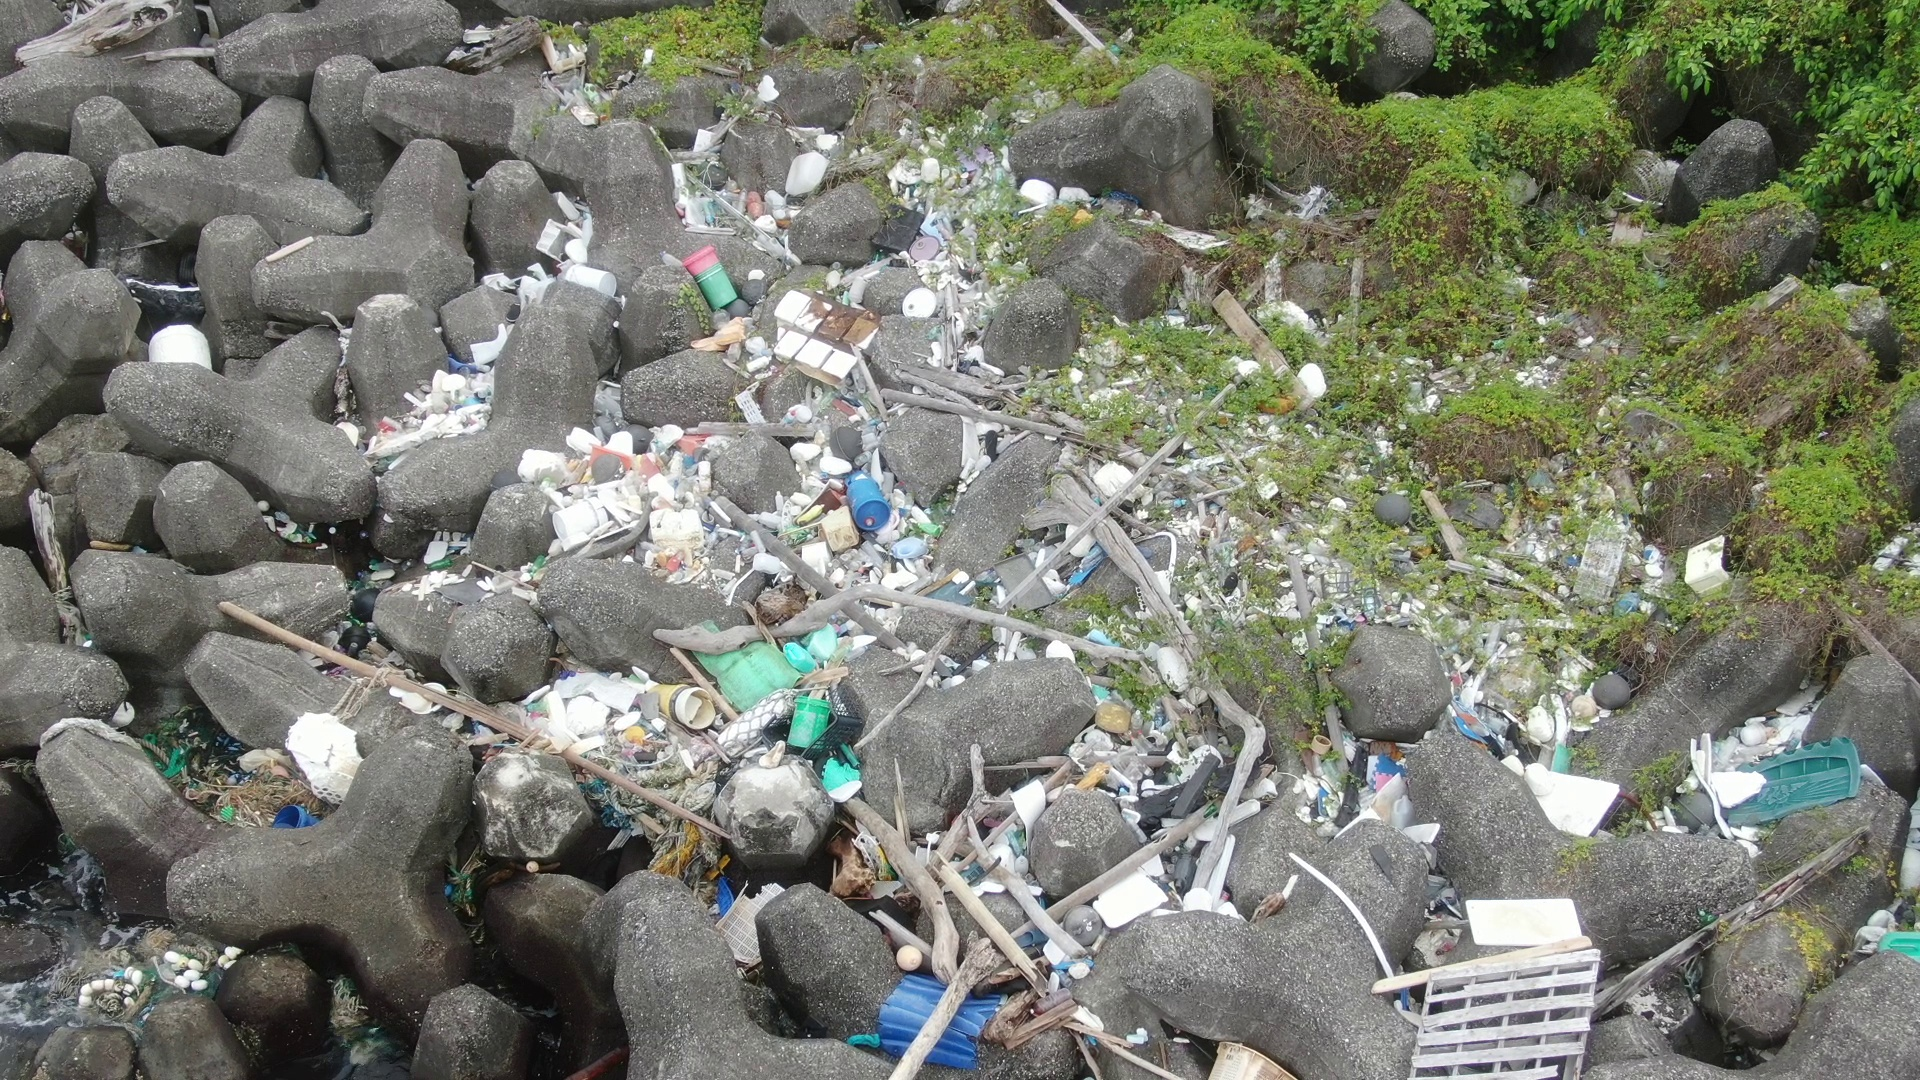garbage: (384, 183, 945, 599), (858, 632, 1291, 1072), (382, 626, 886, 899), (1356, 858, 1618, 1072), (1452, 633, 1639, 843), (1005, 438, 1200, 617), (1662, 695, 1884, 840), (137, 702, 375, 833), (746, 67, 943, 196), (66, 922, 255, 1025), (1209, 276, 1331, 427), (1305, 720, 1416, 835), (959, 252, 998, 487), (703, 890, 803, 977), (996, 165, 1114, 218), (248, 492, 336, 560), (1669, 527, 1745, 604), (1577, 513, 1627, 613), (1861, 897, 1920, 973), (323, 971, 380, 1044)
